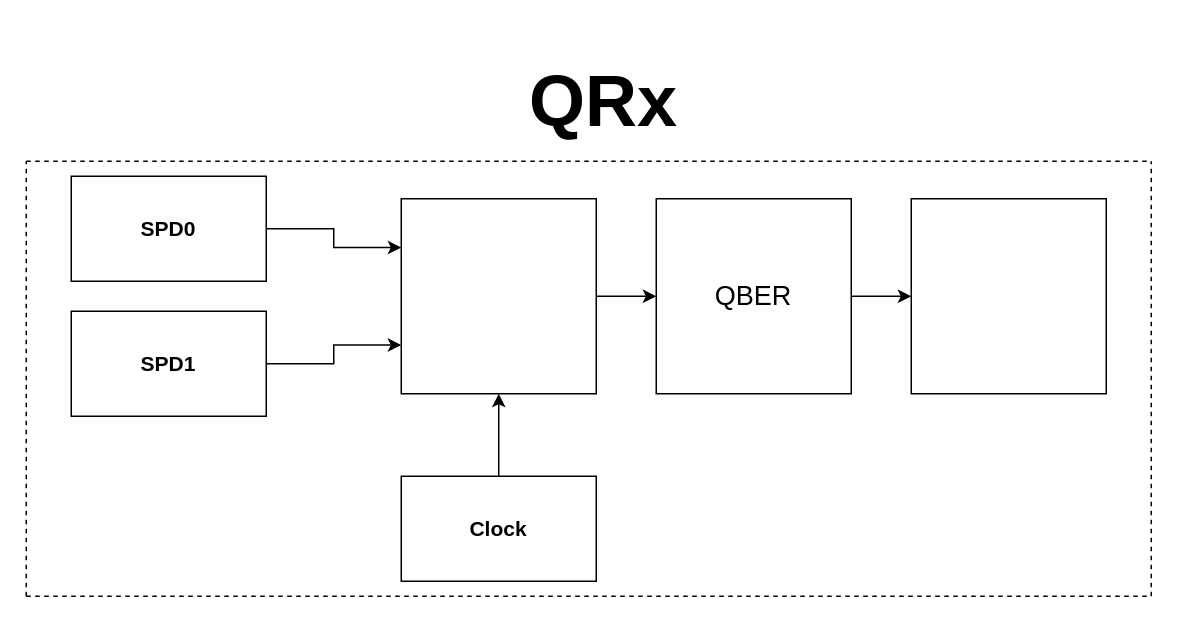
This 1179x624 diagram has some shape labels left out. Here are the shapes that lost their labels. From the top down, the box of each, then its label:
(400, 197, 596, 394): Coincidence Detector
(910, 197, 1106, 394): Sink
